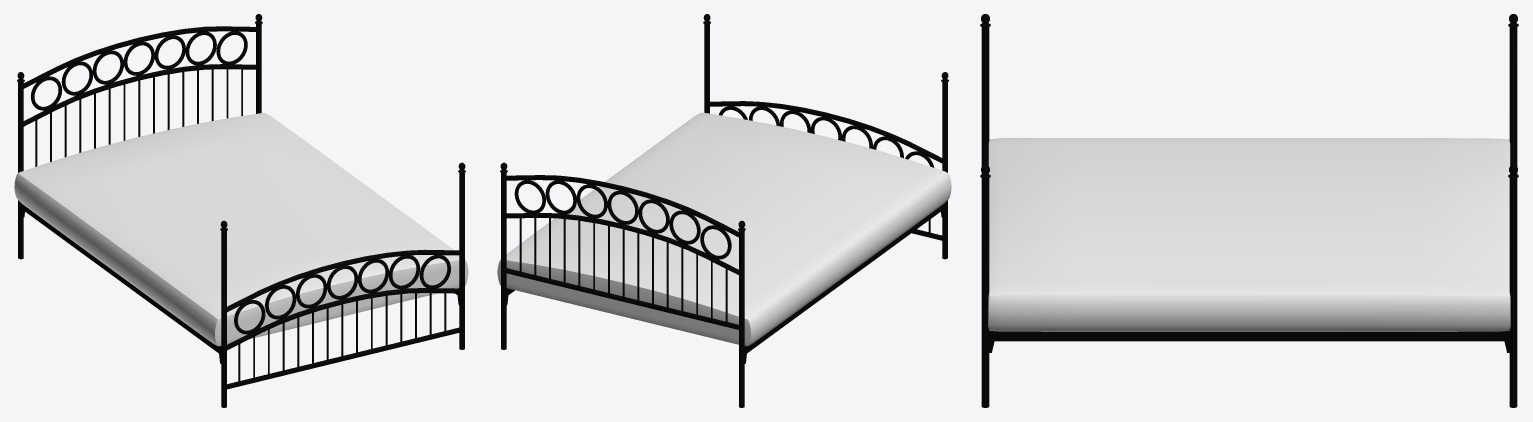
File: mcdonough_canopy.fbx
The picture shows the model from 3 angles, left to right: view 1: azimuth 30°, elevation 25°; view 2: azimuth 150°, elevation 25°; view 3: azimuth 270°, elevation 25°; orthographic projection. The views are drawn at different scales.
Parts seen in each view (by area): view 1: Mcdonough Canopy Bed; view 2: Mcdonough Canopy Bed; view 3: Mcdonough Canopy Bed.
Part boxes in pixels (left/top/right/bottom): Mcdonough Canopy Bed: left=14, top=14, right=468, bottom=407; Mcdonough Canopy Bed: left=497, top=14, right=951, bottom=407; Mcdonough Canopy Bed: left=980, top=14, right=1518, bottom=407.
Bounding box in the file's own units: 1.67 × 1.19 × 2.34.
